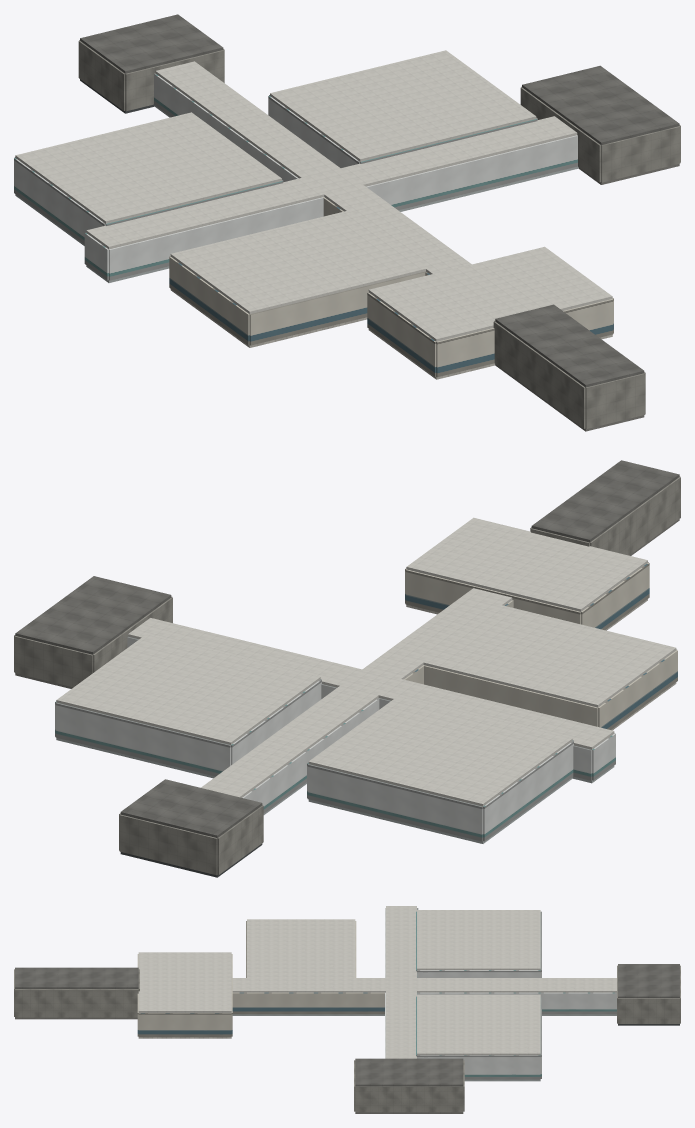
File: op04_shell.glb
The picture shows the model from 3 angles, top to bottom: view 1: azimuth 30°, elevation 25°; view 2: azimuth 150°, elevation 25°; view 3: azimuth 270°, elevation 25°; orthographic projection. The views are drawn at different scales.
Parts seen in each view (by area): view 1: op04_shell; view 2: op04_shell; view 3: op04_shell.
Part boxes in pixels (<box>): op04_shell: <box>14,14,680,431</box>; op04_shell: <box>14,460,680,877</box>; op04_shell: <box>14,906,680,1113</box>.
Size of the model in its own units: 56.3 by 4.55 by 86.3.
9 materials, 9 textured.
